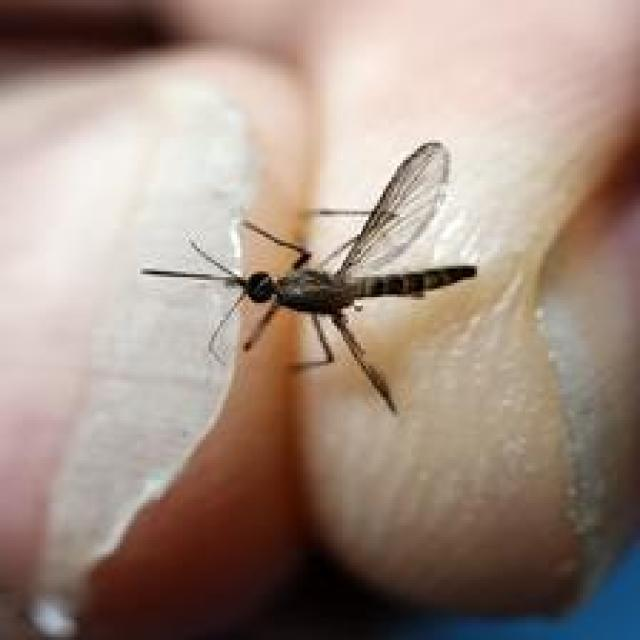Culex: (138, 138, 478, 416)
